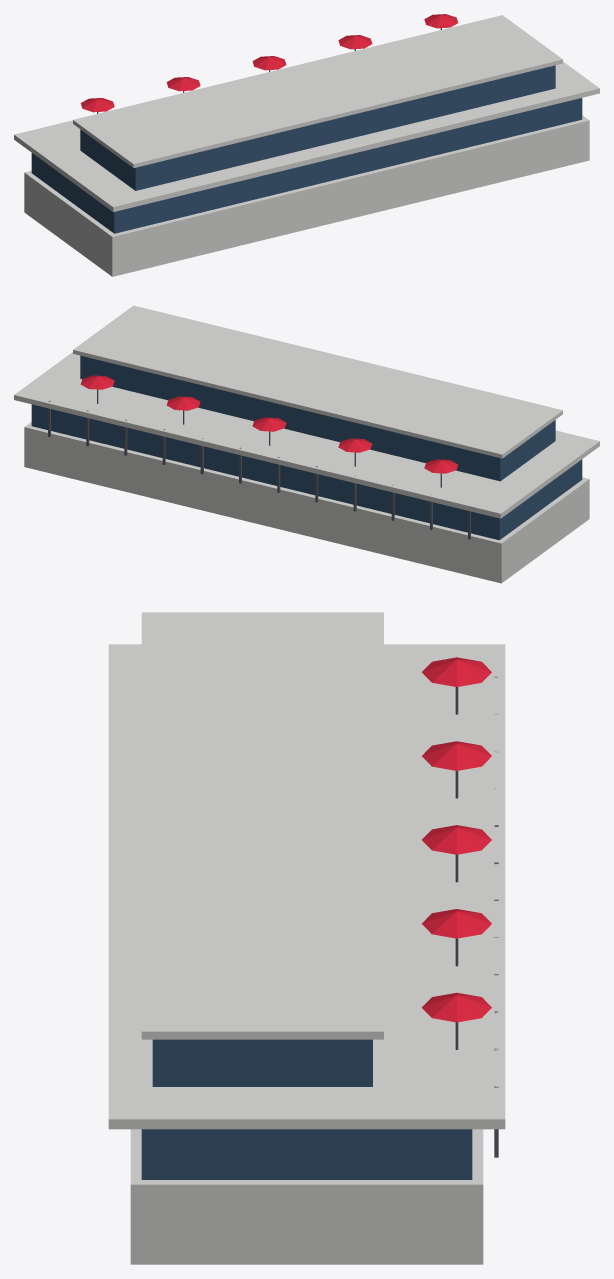
File: vip-lounge.glb
3 views of the same model, one above another, from view 1: azimuth 30°, elevation 25°; view 2: azimuth 150°, elevation 25°; view 3: azimuth 270°, elevation 25° (orthographic). The views are drawn at different scales.
Visible parts, largest first — view 1: vip-lounge; view 2: vip-lounge; view 3: vip-lounge.
Part boxes in pixels (<box>): vip-lounge: <box>14,14,599,276</box>; vip-lounge: <box>14,305,599,583</box>; vip-lounge: <box>108,612,505,1264</box>.
Bounding box in the file's own units: 51 × 10.5 × 18.
